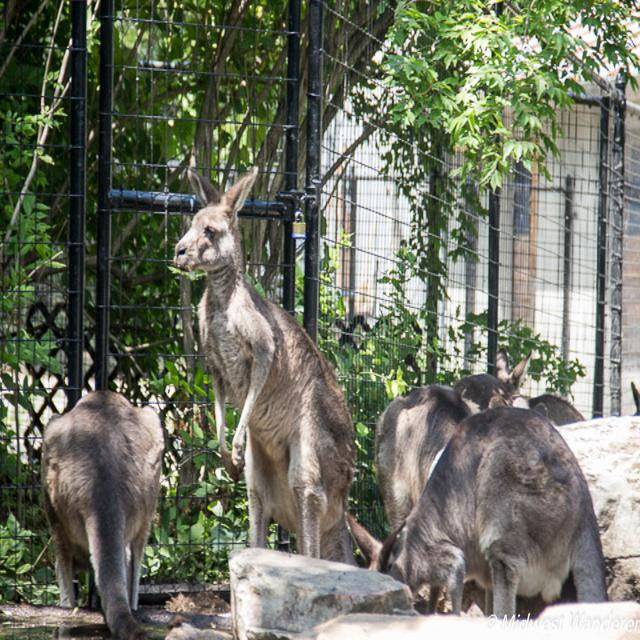kangaroo: (163, 164, 359, 565), (375, 406, 599, 606), (30, 388, 161, 630)
